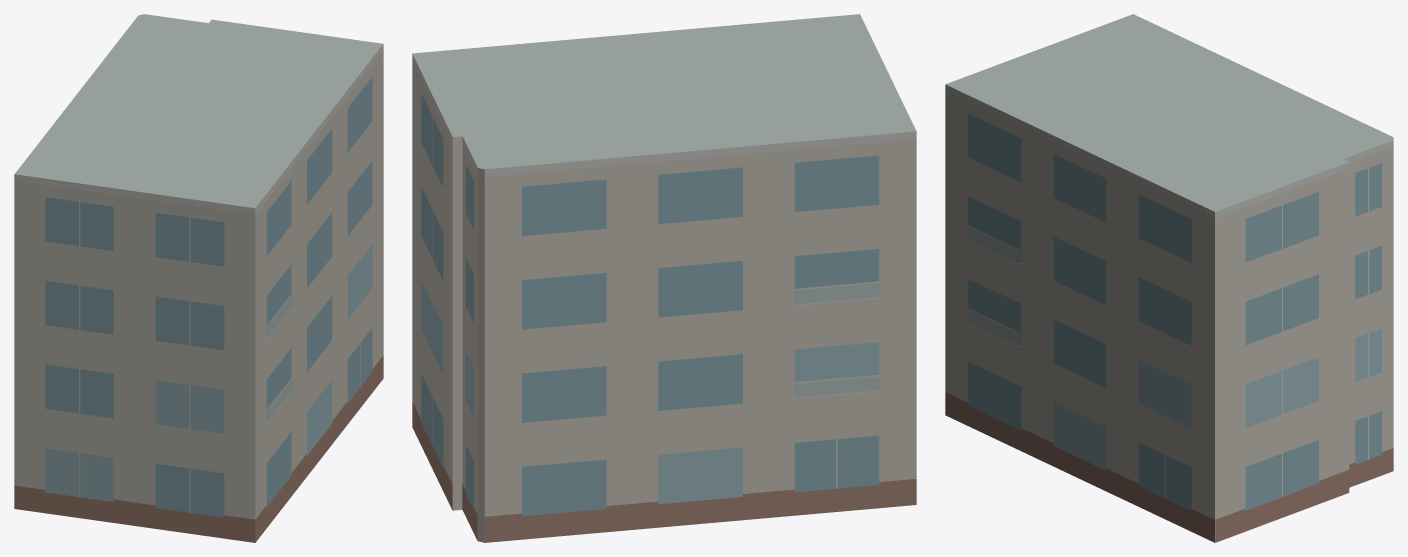
File: survey-upis-32609626.glb
The picture shows the model from 3 angles, left to right: view 1: azimuth 30°, elevation 25°; view 2: azimuth 150°, elevation 25°; view 3: azimuth 270°, elevation 25°; orthographic projection. The views are drawn at different scales.
Visible parts, largest first — view 1: survey-upis-32609626.tmp; view 2: survey-upis-32609626.tmp; view 3: survey-upis-32609626.tmp.
Part boxes in pixels (<box>): survey-upis-32609626.tmp: <box>14,14,383,542</box>; survey-upis-32609626.tmp: <box>412,14,916,542</box>; survey-upis-32609626.tmp: <box>945,14,1393,542</box>.
Size of the model in its own units: 15.67 by 12.2 by 14.99.
